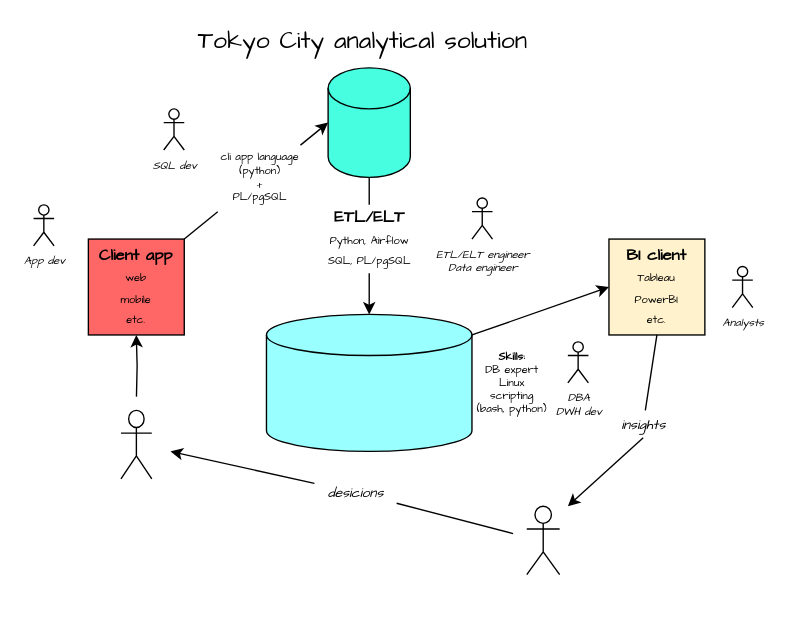
This 786x621 diagram has some shape labels left out. The shapes that lost their labels are listed below. From the top down, each one's centre as x and y in pixels, then its label:
pixel 368 121: OLTP PostgreSQL
pixel 368 382: DWH PostgreSQL Clickhouse Greenpulm
pixel 136 444: Hungry consumers
pixel 542 540: product managers
